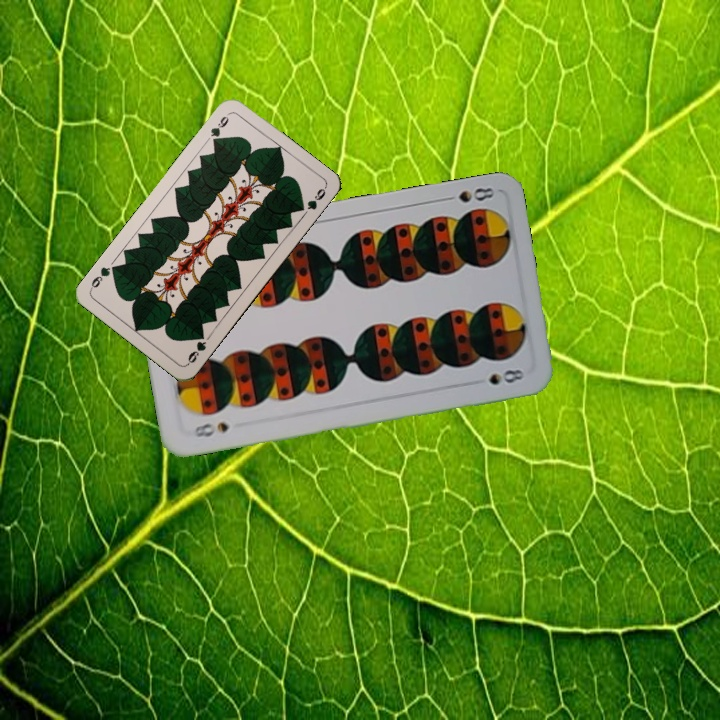G9: (183, 329, 209, 368), (206, 109, 232, 147)
S8: (438, 183, 497, 205), (191, 418, 231, 440)
